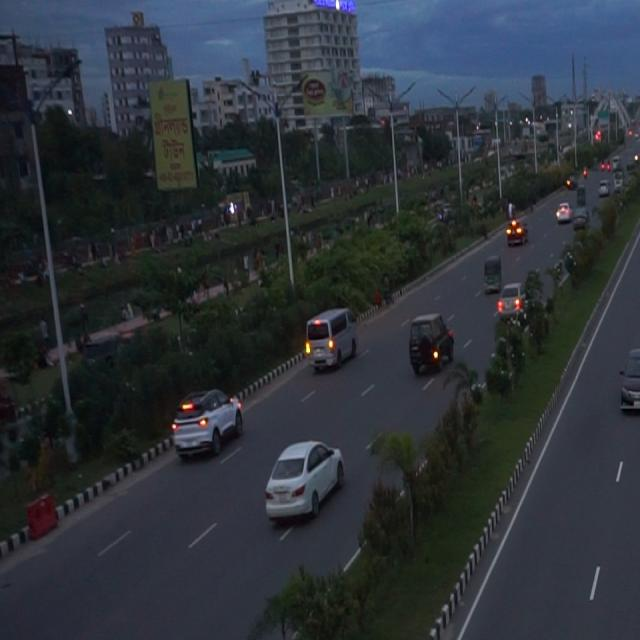car: (254, 426, 351, 538), (156, 367, 252, 474), (294, 294, 366, 377), (402, 299, 456, 382), (616, 329, 640, 421)
